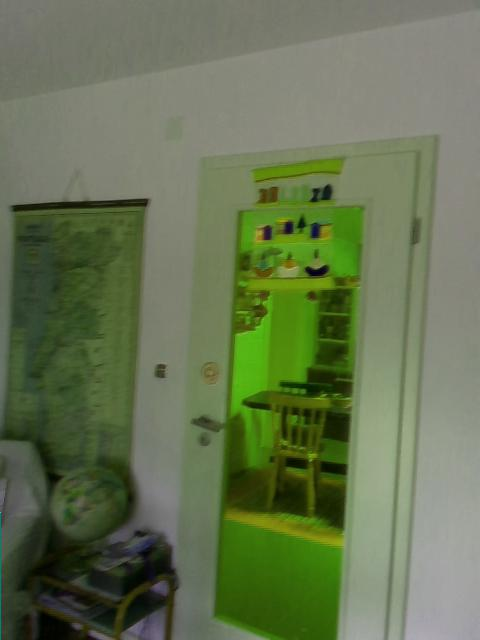closed_door: (176, 133, 437, 639)
